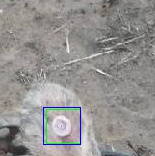text: (46, 109, 80, 143)
